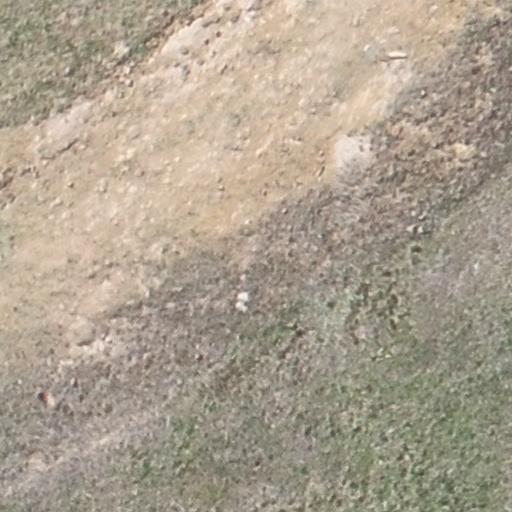stone: (16, 163, 36, 180), (235, 302, 252, 315), (62, 64, 75, 78), (314, 163, 326, 178), (218, 62, 230, 76), (236, 291, 251, 302), (124, 78, 134, 88), (65, 180, 75, 190), (180, 47, 190, 55), (280, 206, 288, 216), (203, 37, 210, 45), (215, 29, 222, 37), (419, 90, 427, 97)
